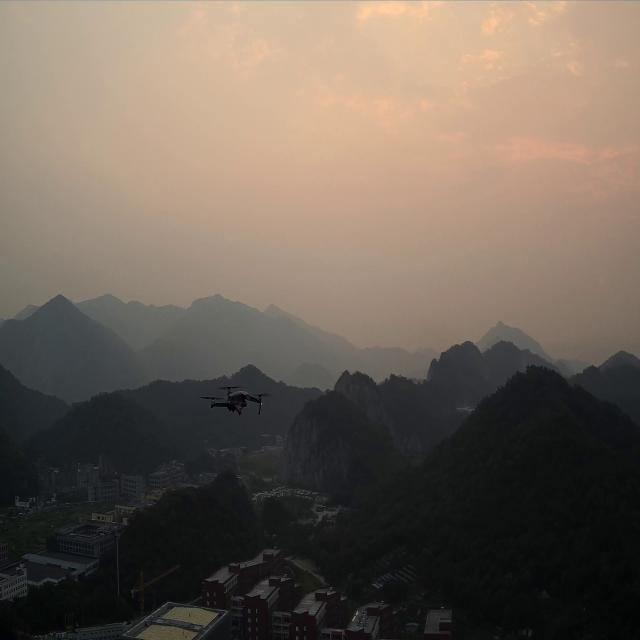UAV: (200, 386, 270, 416)
